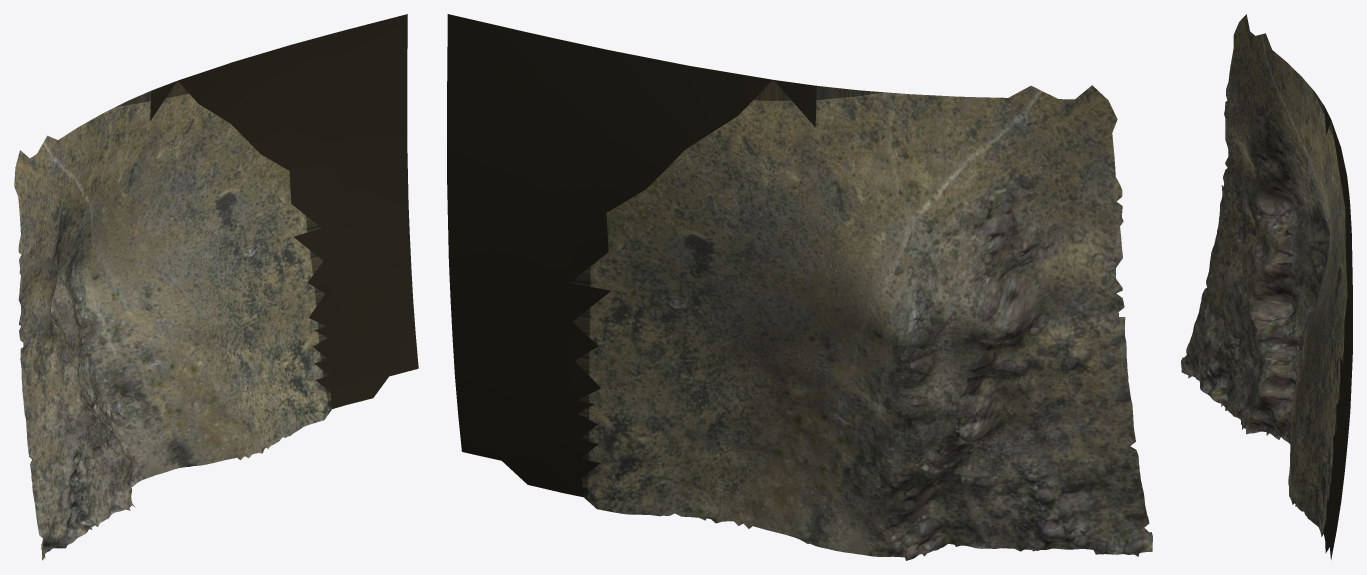
File: tile_21.obj
3 views of the same model, side by side, from view 1: azimuth 30°, elevation 25°; view 2: azimuth 150°, elevation 25°; view 3: azimuth 270°, elevation 25° (orthographic). The views are drawn at different scales.
Size of the model in its own units: 1.95 by 1.58 by 0.6707.
Materials: 1 (1 with a texture image).
